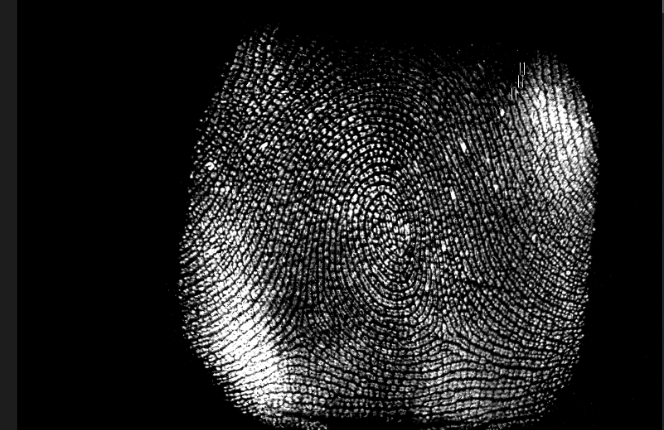nucelo: (367, 191, 410, 253)
verticilo: (276, 314, 319, 345), (431, 314, 459, 344)
